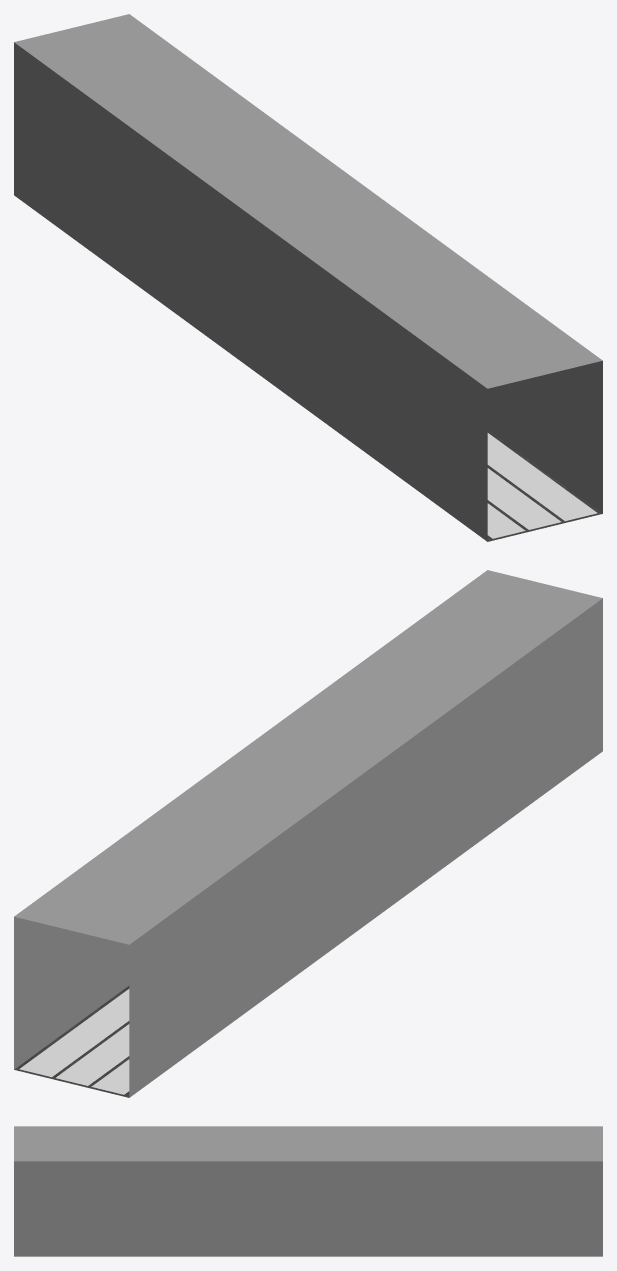
The model's file is cenarioMarcelo.fbx.
The picture shows the model from 3 angles, top to bottom: view 1: azimuth 30°, elevation 25°; view 2: azimuth 150°, elevation 25°; view 3: azimuth 270°, elevation 25°; orthographic projection. The views are drawn at different scales.
Visible parts, largest first — view 1: CorredorGenerico.001, Plane.001, Plane, Plane.002; view 2: CorredorGenerico.001, Plane.001, Plane, Plane.002; view 3: CorredorGenerico.001.
Part boxes in pixels (box(x1,y1,x2,y2)): CorredorGenerico.001: box(14, 14, 602, 541); Plane.001: box(487, 433, 597, 521); Plane: box(487, 468, 560, 529); Plane.002: box(487, 503, 525, 538); CorredorGenerico.001: box(14, 570, 602, 1097); Plane.001: box(19, 989, 129, 1077); Plane: box(56, 1024, 129, 1085); Plane.002: box(91, 1059, 129, 1094); CorredorGenerico.001: box(14, 1126, 602, 1256).
Size of the model in its own units: 352 by 446 by 2500.
Materials: 3 (2 with a texture image).
